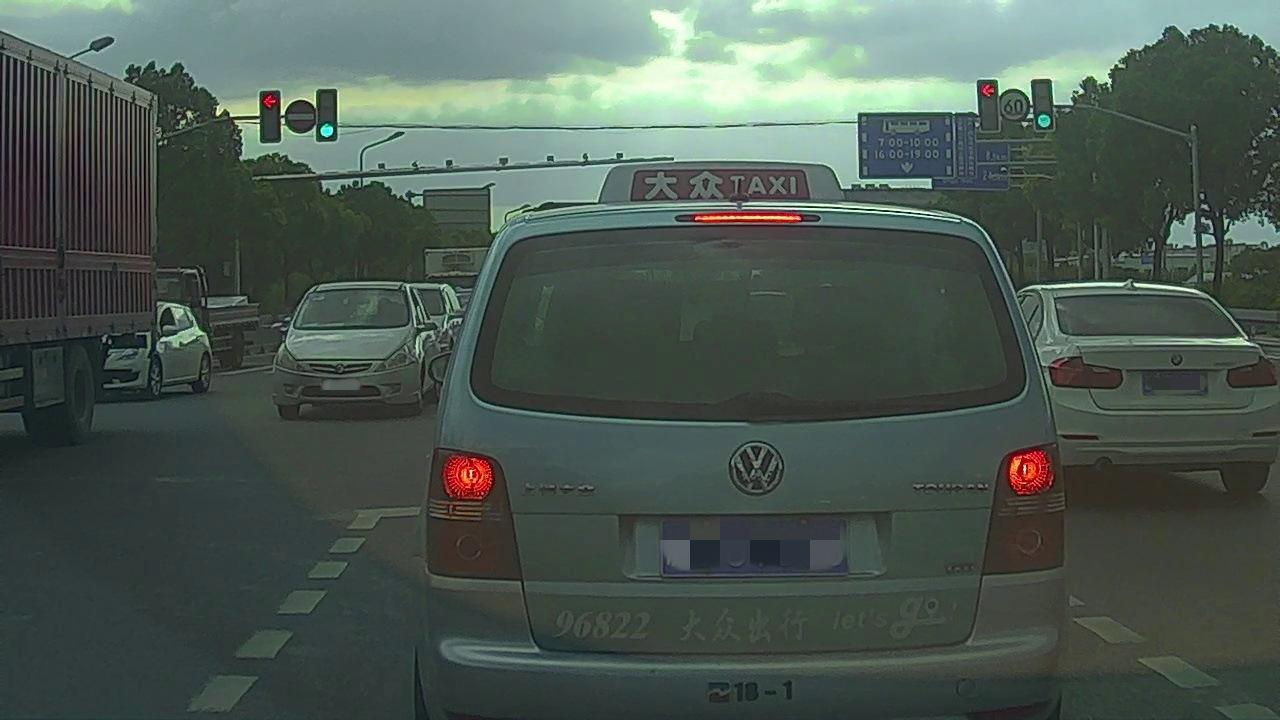traffic_light: (1031, 78, 1053, 131), (976, 80, 998, 131), (260, 92, 280, 142), (317, 90, 336, 141)
